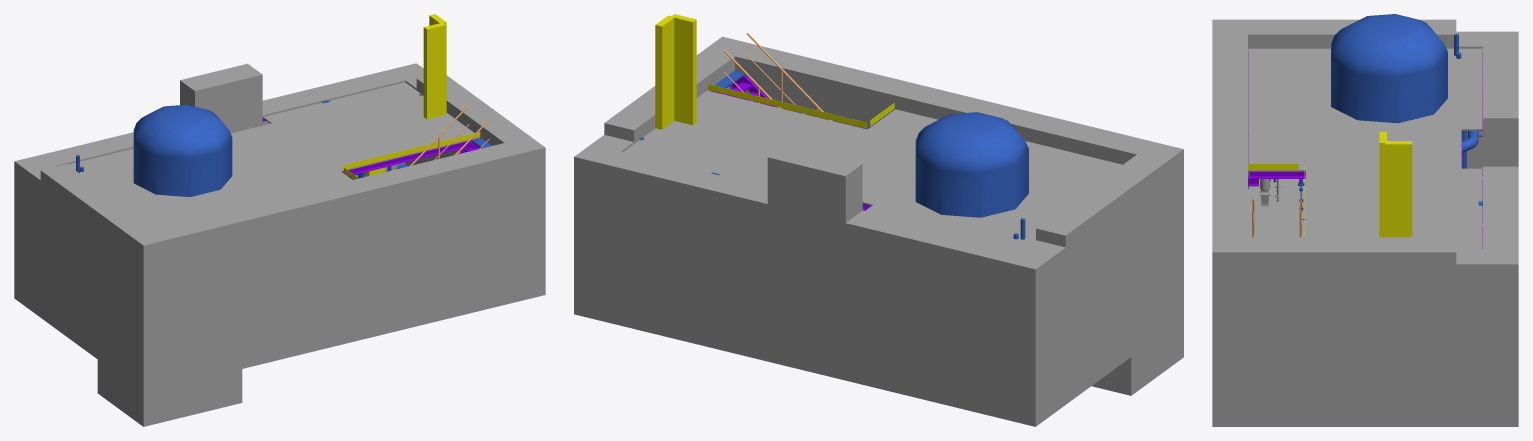
The model's file is PL1056_LCL Pit_FBX.fbx.
3 views of the same model, side by side, from view 1: azimuth 30°, elevation 25°; view 2: azimuth 150°, elevation 25°; view 3: azimuth 270°, elevation 25° (orthographic). The views are drawn at different scales.
Parts seen in each view (by area): view 1: Walls, Chamber, Pillar, Stairs; view 2: Walls, Chamber, Pillar, Railing; view 3: Walls, Chamber, Pillar, Stairs, Pipe_02, Pipe_03.
Part boxes in pixels (<box>): Walls: <box>14,63,545,426</box>; Chamber: <box>133,104,232,196</box>; Pillar: <box>342,14,480,179</box>; Stairs: <box>262,118,479,176</box>; Walls: <box>574,36,1183,426</box>; Chamber: <box>862,112,1028,217</box>; Pillar: <box>655,14,894,129</box>; Railing: <box>724,33,832,120</box>; Walls: <box>1212,19,1518,426</box>; Chamber: <box>1298,14,1447,191</box>; Pillar: <box>1248,131,1412,237</box>; Stairs: <box>1248,50,1482,248</box>; Pipe_02: <box>1259,130,1482,206</box>; Pipe_03: <box>1248,34,1466,219</box>.
Size of the model in its own units: 1240 by 765 by 690.
